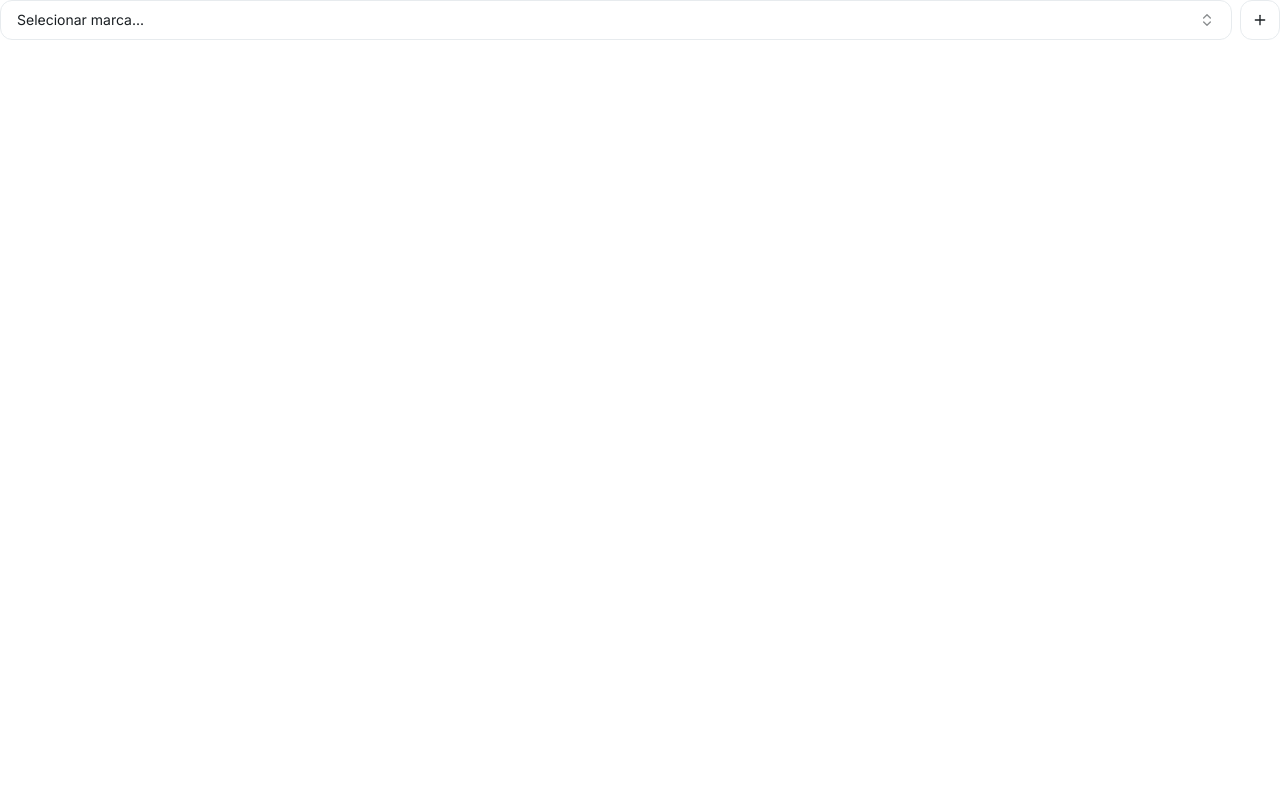
Test: BrandSelect › opens create dialog when "+" button is clicked
The width and height of the screenshot is (1280, 800).
Click the button titled "Nova marca" at (1260, 20), box top-left (1240, 0), bottom-right (1279, 40)
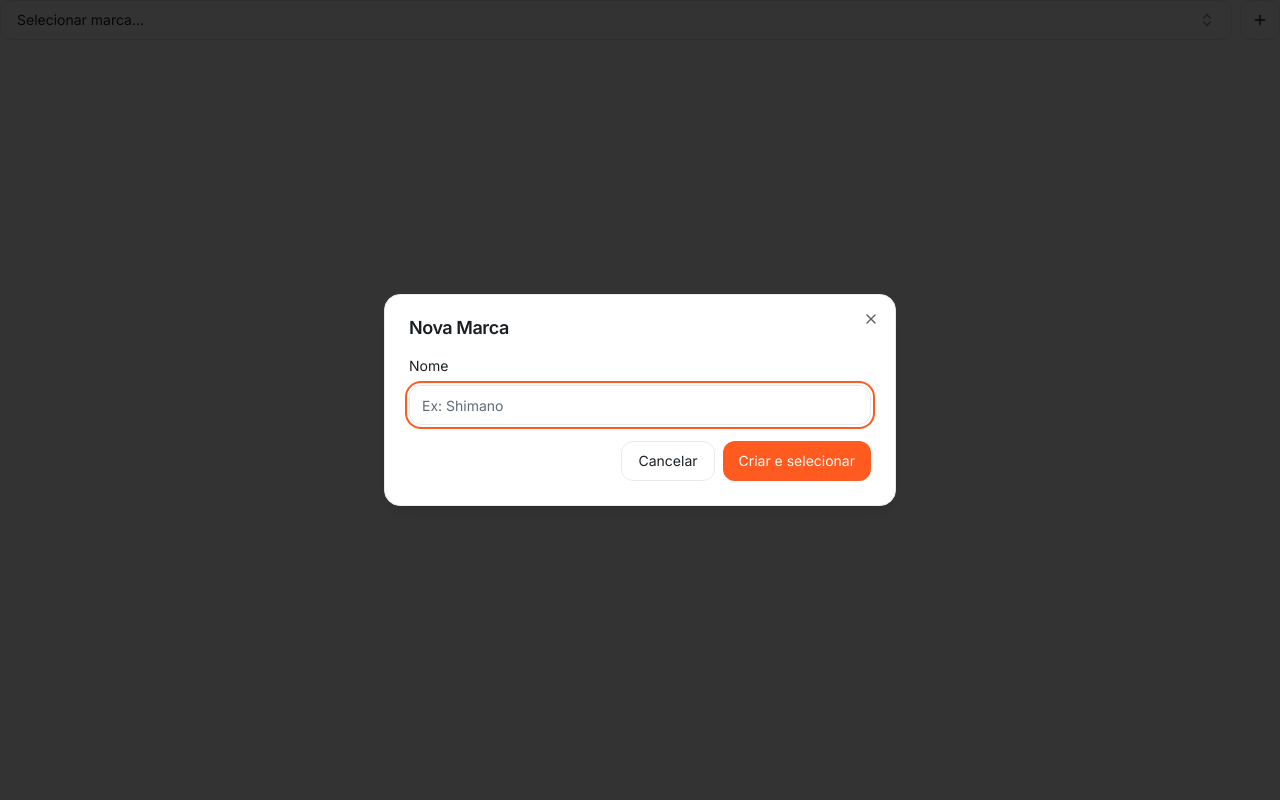
Result: the heading "Nova Marca" is shown at top-left (409, 317), bottom-right (509, 338)
Result: the field labelled "Nome" is shown at top-left (409, 385), bottom-right (871, 425)
